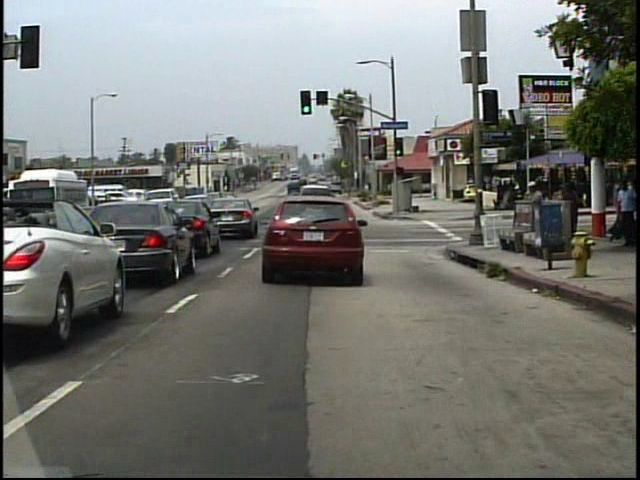person: (520, 178, 547, 244), (611, 180, 632, 249), (561, 178, 582, 247)
